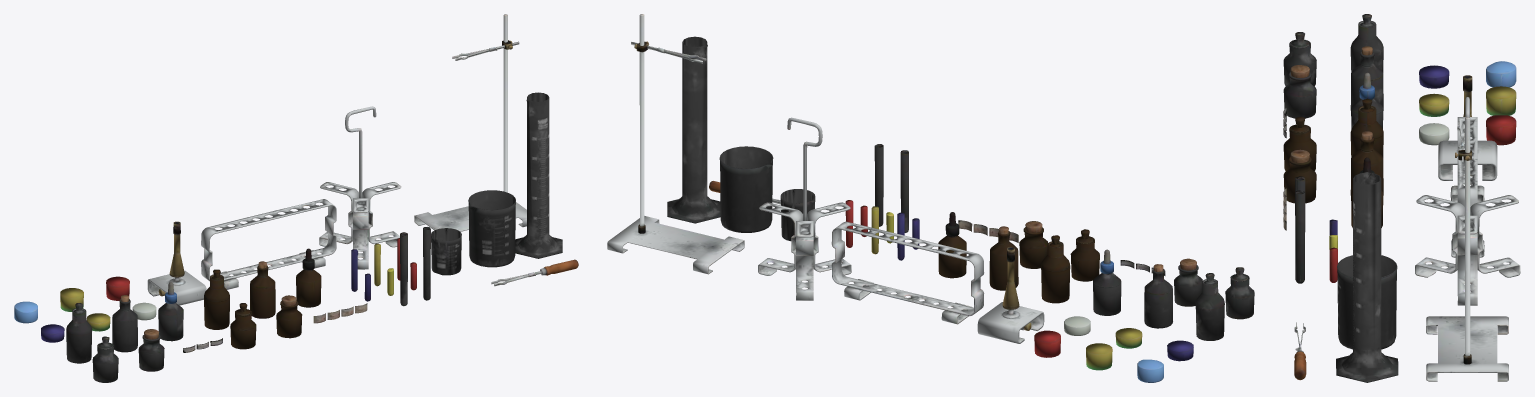
File: chemistry_set.glb
The picture shows the model from 3 angles, left to right: view 1: azimuth 30°, elevation 25°; view 2: azimuth 150°, elevation 25°; view 3: azimuth 270°, elevation 25°; orthographic projection. The views are drawn at different scales.
Visible parts, largest first — view 1: chemistry_set_beaker_large, chemistry_set_test_tube_content_b; view 2: chemistry_set_beaker_large, chemistry_set_test_tube_content_b; view 3: chemistry_set_beaker_large, chemistry_set_test_tube_content_b.
Boxes of the visible parts, <box> form: chemistry_set_beaker_large: <box>41,92,562,382</box>; chemistry_set_test_tube_content_b: <box>14,14,578,339</box>; chemistry_set_beaker_large: <box>667,36,1254,370</box>; chemistry_set_test_tube_content_b: <box>607,14,1196,382</box>; chemistry_set_beaker_large: <box>1283,14,1516,382</box>; chemistry_set_test_tube_content_b: <box>1290,46,1520,381</box>.
Size of the model in its own units: 1.08 by 0.429 by 0.3539.
Materials: 2 (2 with a texture image).
